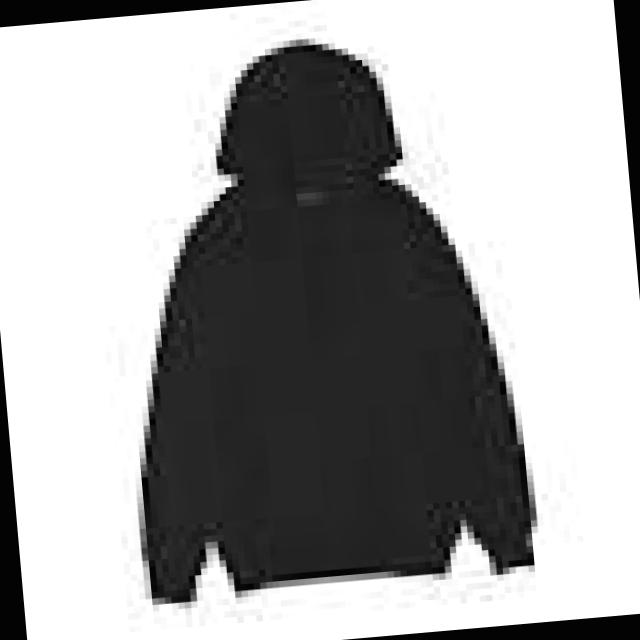sweater: (53, 20, 562, 628)
